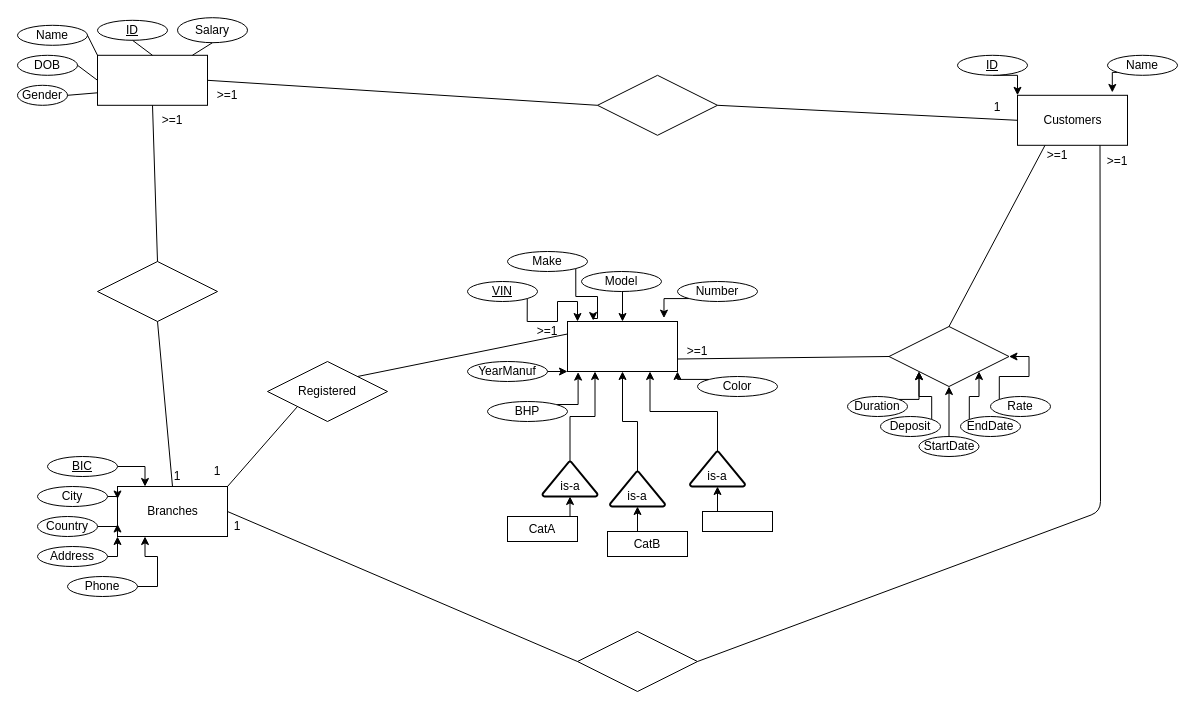
The diagram is 1195 pixels wide and 709 high, and some of its shapes have lost their labels. The shapes that lost their labels are listed below. From the top down, each one's centre as x and y in pixels, then its label:
the point at 152,79: Staff
the point at 657,104: Services
the point at 157,291: WorksIn
the point at 622,346: Cars
the point at 948,356: Rents
the point at 737,521: CatC
the point at 637,661: Signed
